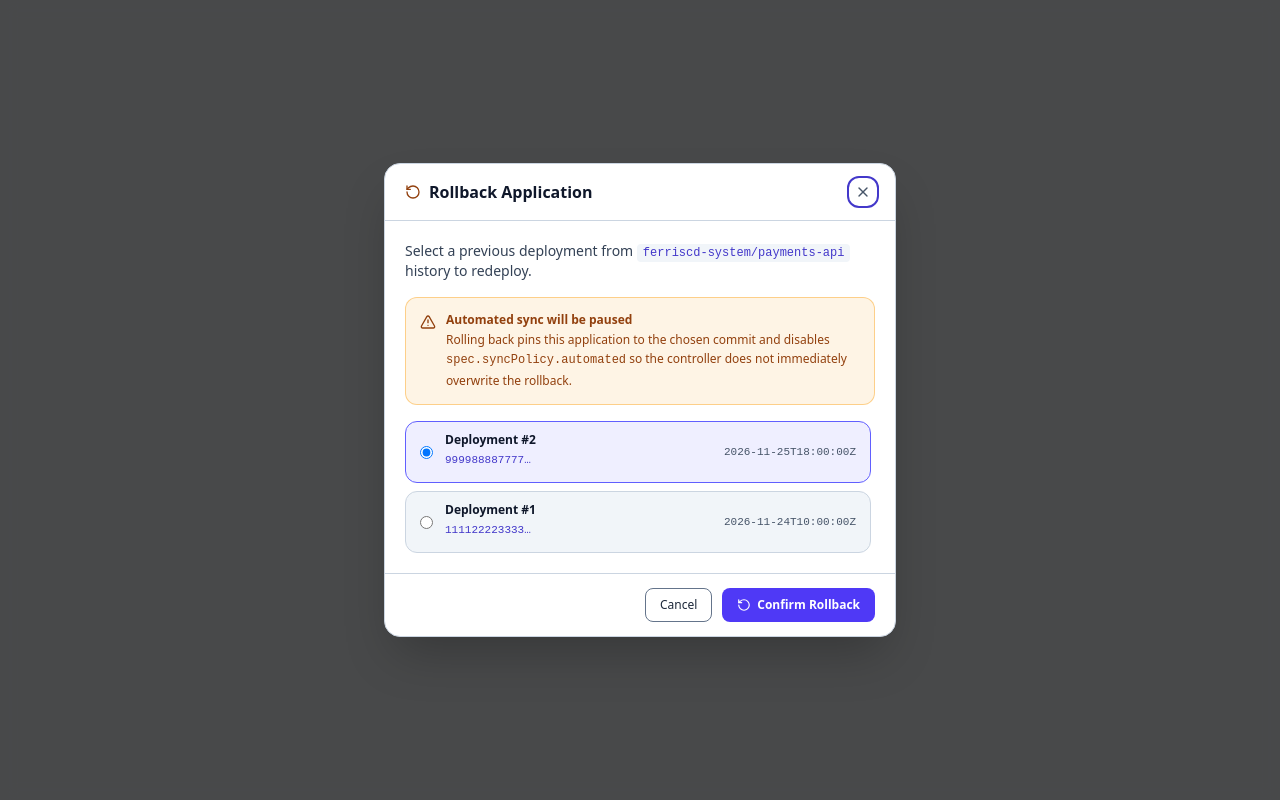
it: SyncModal & RollbackModal (T16.4 & Trap Guard T16.4) › displays automated-sync-pause warning in RollbackModal, selects history entry, and handles 403 Forbidden gracefully
Expected: the element with test id "rollback-auto-sync-warning" shows "Automated sync will be paused", [446,311,632,328]
Expected: the element with test id "rollback-auto-sync-warning" shows "spec.syncPolicy.automated", [446,353,626,367]
Choose Deployment #1
Click the radio button labelled "Deployment #1 111122223333… 2026-11-24T10:00:00Z".
click(426, 522)  # box [420,516,433,529]
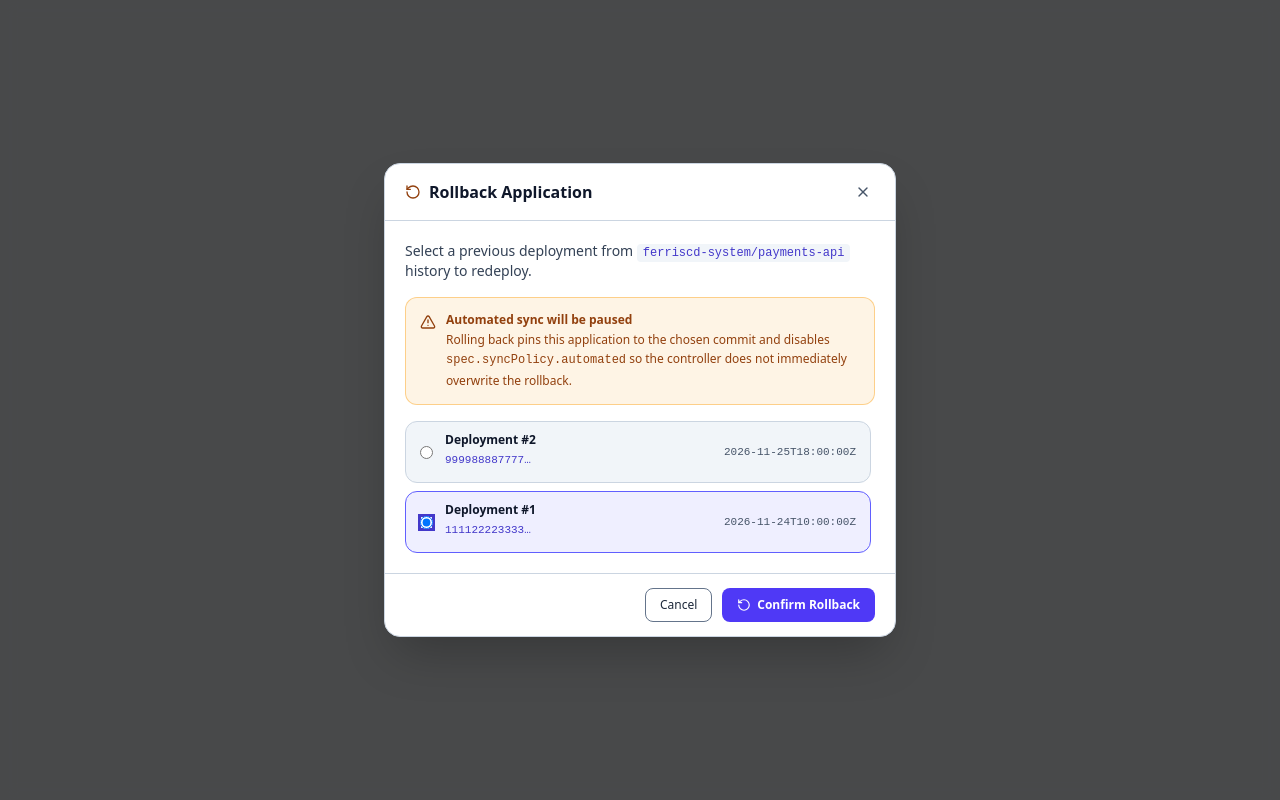
Click the button "Confirm Rollback".
click(799, 605)  # box [722,588,875,622]
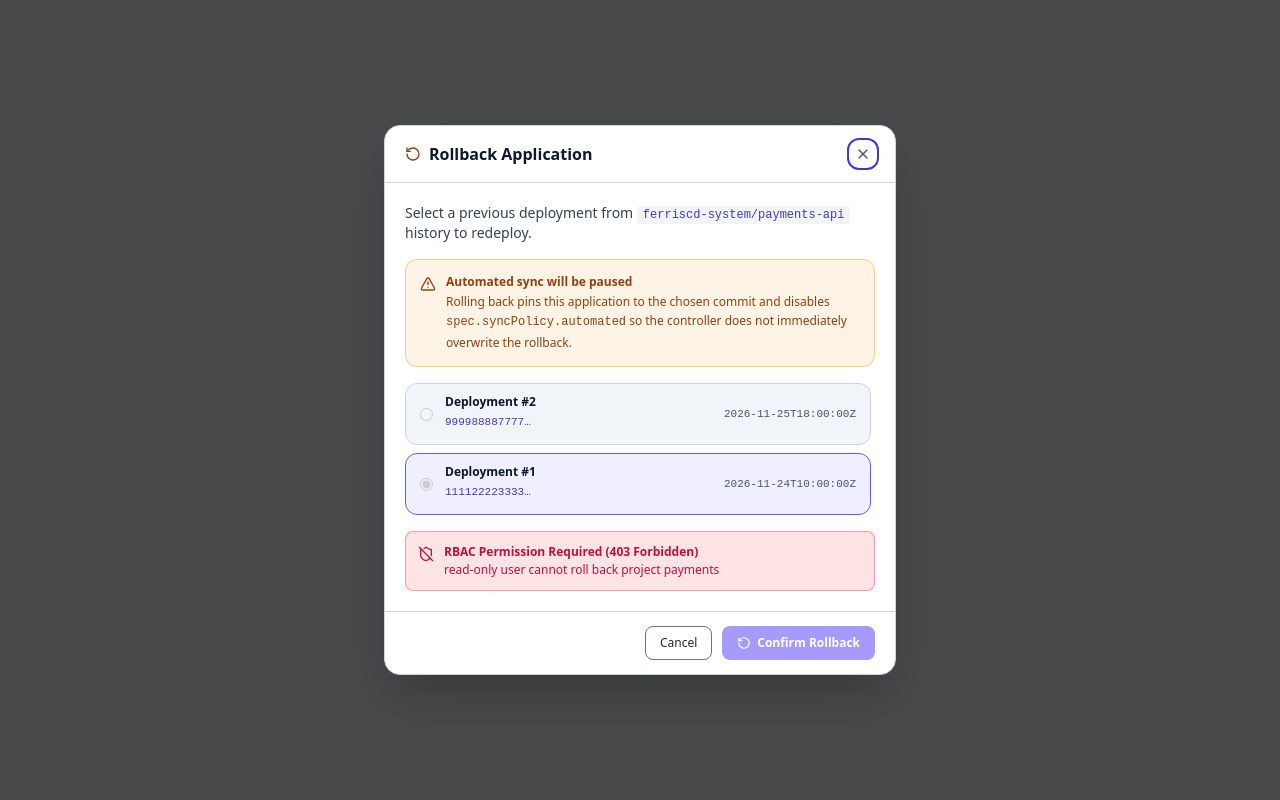
Expected: the message with test id "rollback-rbac-forbidden" shows "read-only user cannot roll back project payments", [444,561,719,578]
Expected: the button "Confirm Rollback" is disabled, [722,626,875,660]
